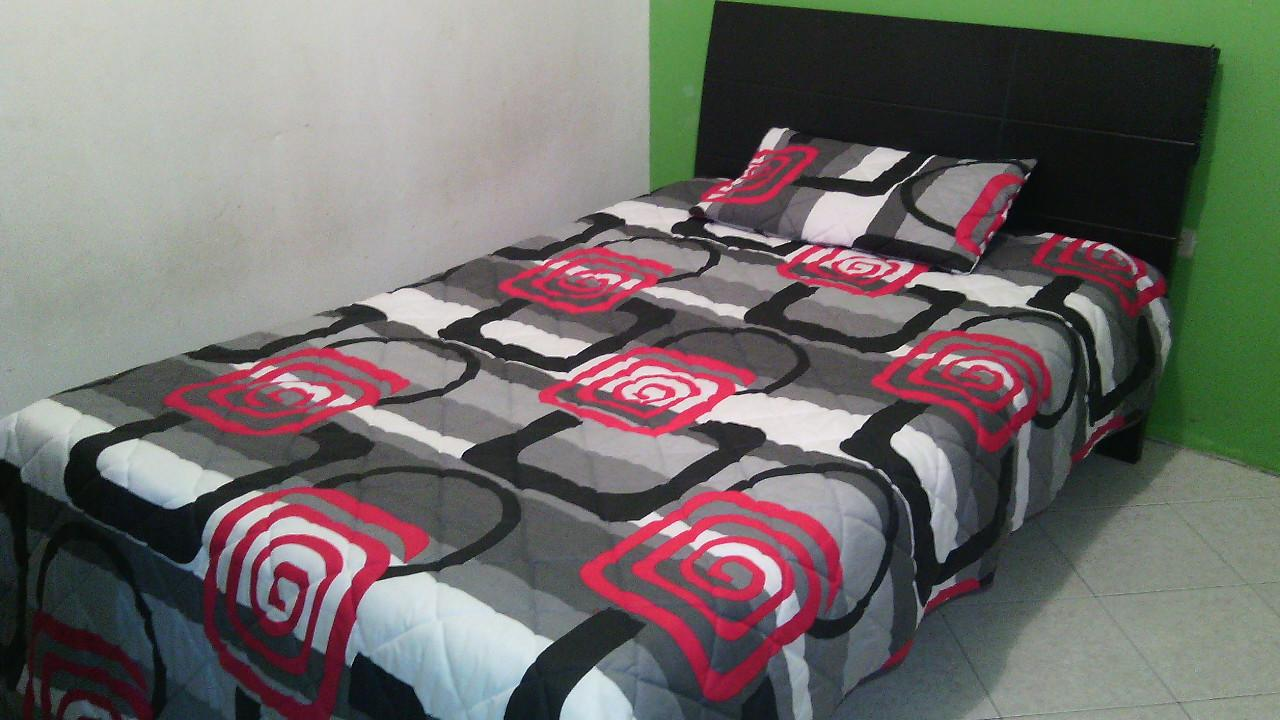bed: (107, 73, 1112, 627)
